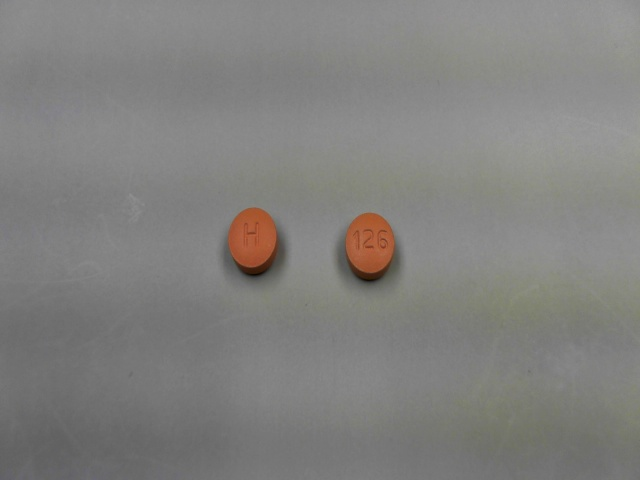1: (352, 229, 361, 252)
2: (361, 227, 375, 251)
6: (376, 227, 389, 252)
H: (242, 221, 262, 250)
